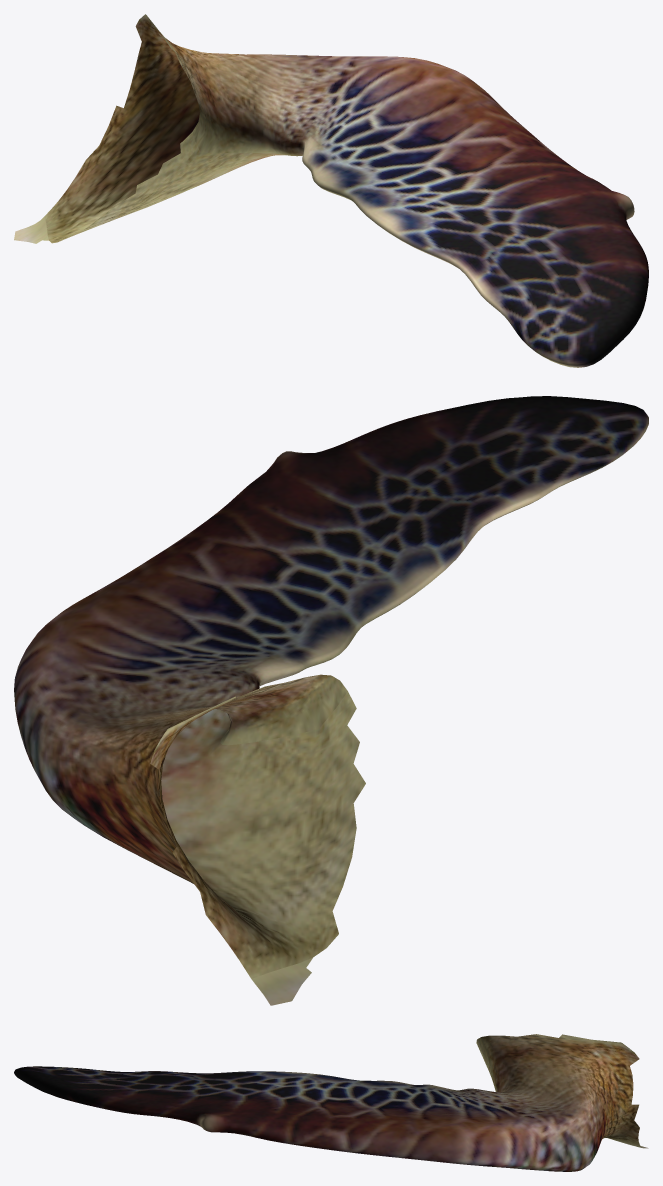
The model's file is tortuga_brazoizquierdo.obj.
3 renders of one model, top to bottom at view 1: azimuth 30°, elevation 25°; view 2: azimuth 150°, elevation 25°; view 3: azimuth 270°, elevation 25°, orthographic. The views are drawn at different scales.
Parts seen in each view (by area): view 1: tortuga_brazoizquierdo:_Sea_Turtle_V1; view 2: tortuga_brazoizquierdo:_Sea_Turtle_V1; view 3: tortuga_brazoizquierdo:_Sea_Turtle_V1.
Part boxes in pixels (x1=…): tortuga_brazoizquierdo:_Sea_Turtle_V1: x1=14, y1=14, x2=648, y2=367; tortuga_brazoizquierdo:_Sea_Turtle_V1: x1=14, y1=396, x2=648, y2=1005; tortuga_brazoizquierdo:_Sea_Turtle_V1: x1=14, y1=1034, x2=648, y2=1171.
Bounding box in the file's own units: 20.26 × 11.59 × 45.8.
1 material, 1 textured.
